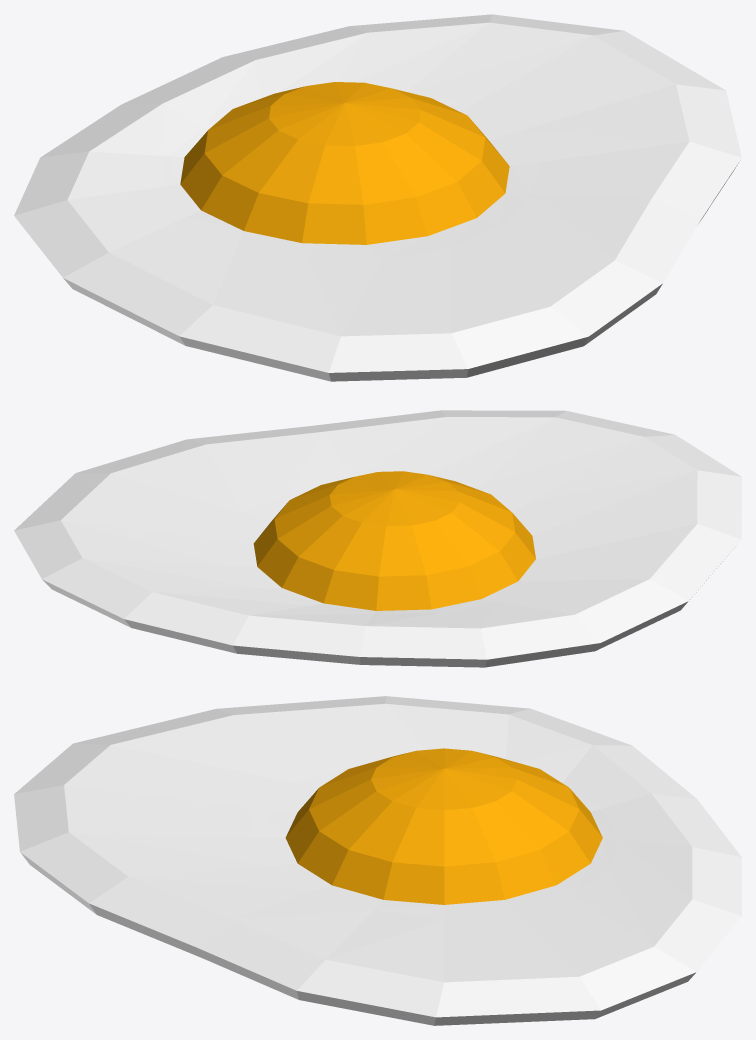
3 renders of one model, top to bottom at view 1: azimuth 30°, elevation 25°; view 2: azimuth 150°, elevation 25°; view 3: azimuth 270°, elevation 25°, orthographic. The views are drawn at different scales.
Parts seen in each view (by area): view 1: Sunny_Side_Up_Egg; view 2: Sunny_Side_Up_Egg; view 3: Sunny_Side_Up_Egg.
Part boxes in pixels (x1,y1,x2,y2): Sunny_Side_Up_Egg: (14,14,741,381); Sunny_Side_Up_Egg: (14,410,741,667); Sunny_Side_Up_Egg: (14,696,741,1025).
Size of the model in its own units: 91.94 by 11.46 by 88.03.
1 material, 1 textured.
